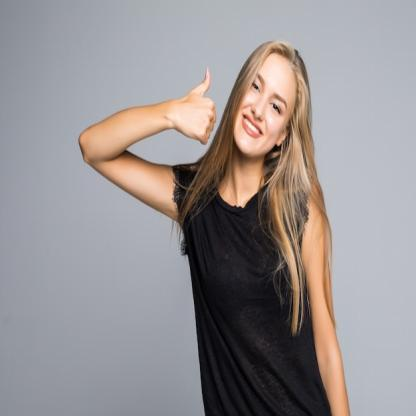thumb_up: (172, 68, 218, 146)
